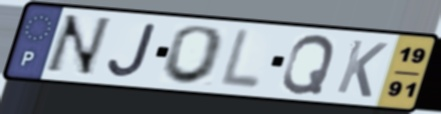J: (106, 21, 160, 80)
K: (333, 37, 391, 100)
L: (215, 26, 265, 93)
N: (39, 13, 115, 78)
O: (158, 24, 229, 86)
Q: (279, 33, 338, 96)
